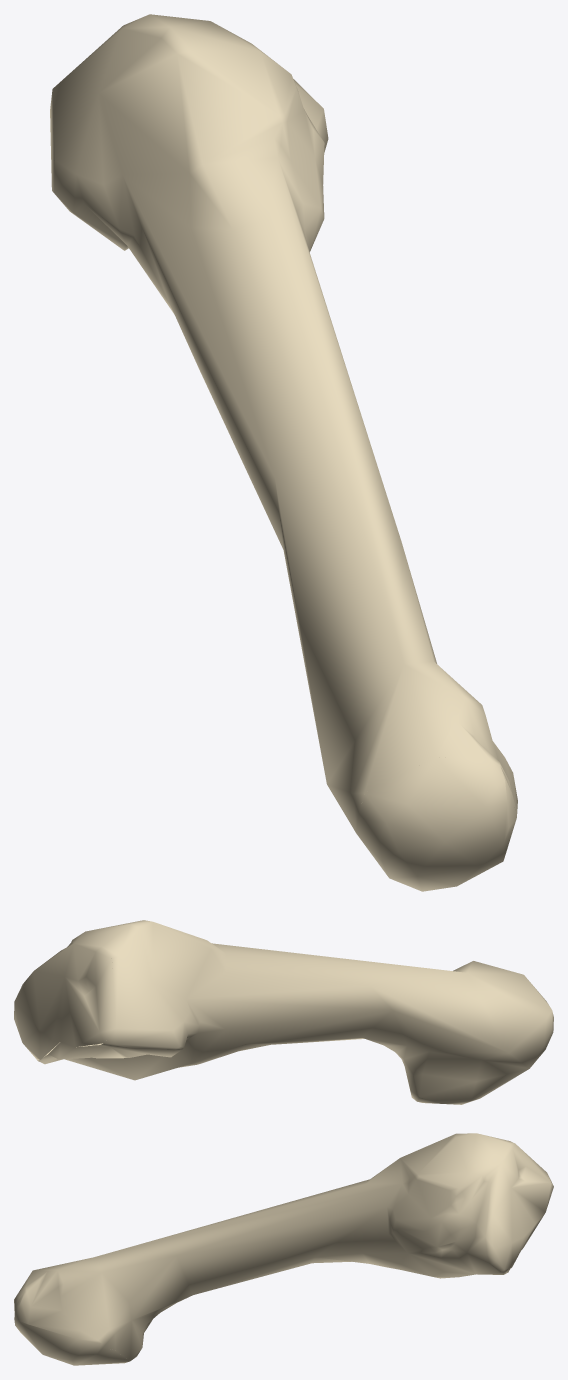
Rendered from esqueleto-fourth-metatarsal-bone-r.glb.
3 views of the same model, one above another, from view 1: azimuth 30°, elevation 25°; view 2: azimuth 150°, elevation 25°; view 3: azimuth 270°, elevation 25° (orthographic). The views are drawn at different scales.
Visible parts, largest first — view 1: Fourth metatarsal bone.r; view 2: Fourth metatarsal bone.r; view 3: Fourth metatarsal bone.r.
Part boxes in pixels (left/top/right/bottom): Fourth metatarsal bone.r: left=50, top=14, right=517, bottom=891; Fourth metatarsal bone.r: left=14, top=920, right=553, bottom=1104; Fourth metatarsal bone.r: left=14, top=1133, right=553, bottom=1365.
Bounding box in the file's own units: 0.0299 × 0.037 × 0.0684.
